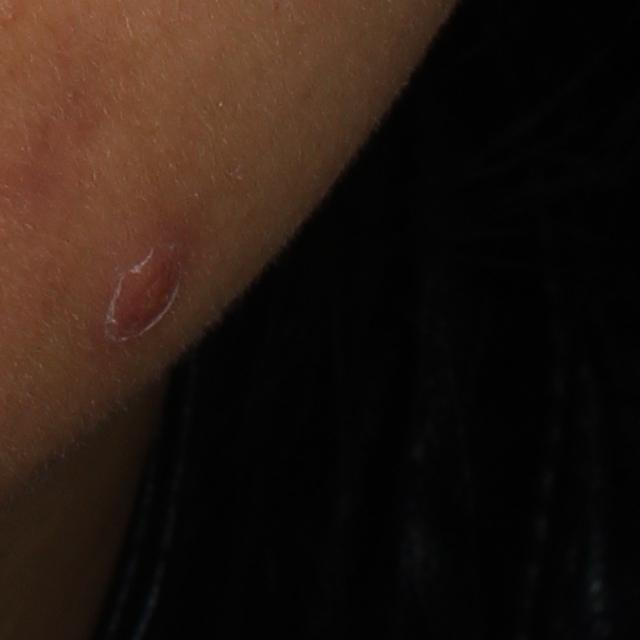papule: (98, 236, 186, 349)
